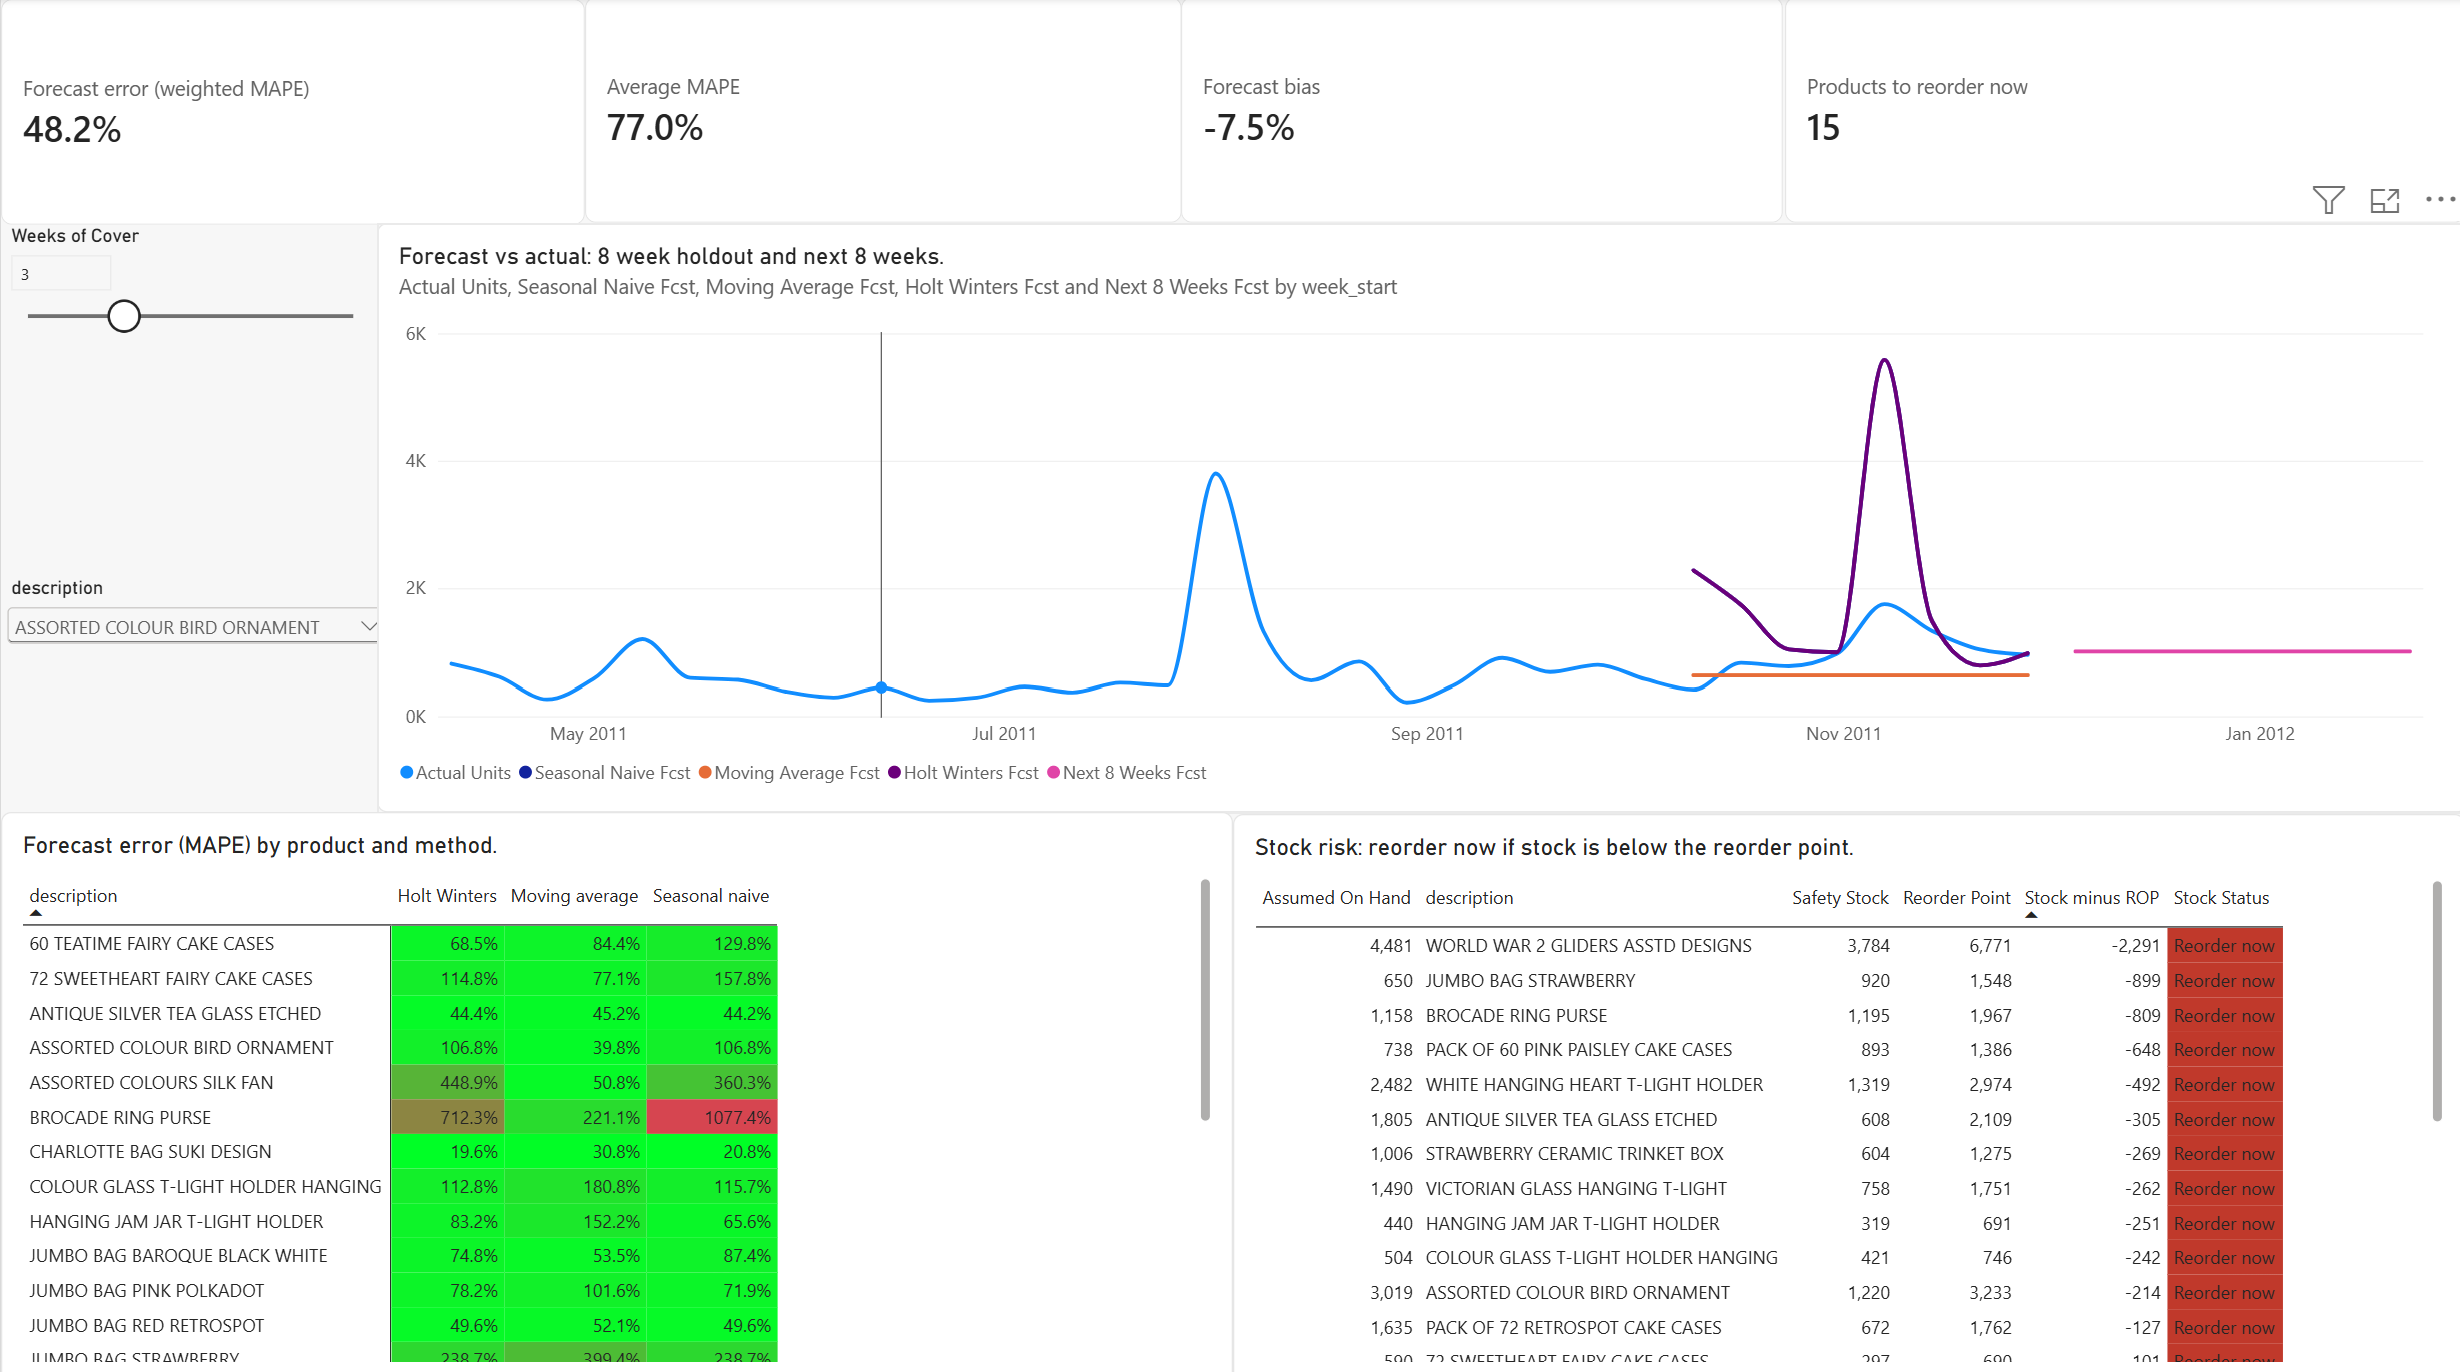

The dashboard page shown, as its layout file describes it:
{"tool":"powerbi","page":{"name":"Page 1","canvas":[1920,1080],"ordinal":0},"visuals":[{"type":"slicer","fields":{"Values":["inventory_plan.description"]},"box":[0,451.9,305.5,176.1],"z":0},{"type":"slicer","fields":{"Values":["Weeks of Cover.Weeks of Cover"]},"box":[0,177.7,293,176.1],"z":1000},{"type":"cardVisual","fields":{"Data":["accuracy_by_product.All WMAPE %"]},"box":[0,1.6,455.1,176.1],"z":2000},{"type":"cardVisual","fields":{"Data":["accuracy_by_product.All MAPE %"]},"box":[454.7,0,465.5,176.8],"z":3000},{"type":"cardVisual","fields":{"Data":["accuracy_by_product.All Bias %"]},"box":[919.7,0,469.9,176.8],"z":4000},{"type":"cardVisual","fields":{"Data":["inventory_plan.All Products At Risk"]},"box":[1389.7,0,530.3,176.8],"z":5000},{"type":"lineChart","title":"Forecast vs actual: 8 week holdout and next 8 weeks.","fields":{"Category":["forecast_chart.week_start"],"Y":["forecast_chart.Actual Units","forecast_chart.Seasonal Naive Fcst","forecast_chart.Moving Average Fcst","forecast_chart.Holt Winters Fcst","forecast_chart.Next 8 Weeks Fcst"]},"box":[293.1,176.8,1629.1,458.7],"z":6000},{"type":"pivotTable","title":"Forecast error (MAPE) by product and method.","fields":{"Columns":["accuracy_by_product.method"],"Rows":["inventory_plan.description"],"Values":["accuracy_by_product.MAPE %"]},"box":[0,634.3,960,445.7],"z":7000},{"type":"tableEx","title":"Stock risk: reorder now if stock is below the reorder point.","fields":{"Values":["inventory_plan.Assumed On Hand","inventory_plan.description","inventory_plan.Safety Stock","inventory_plan.Reorder Point","inventory_plan.Stock minus ROP","inventory_plan.Stock Status"]},"box":[960,636,960,444],"z":8000}]}

Visuals, with their boxes in screenshot pixels (x1, y1, x2, y2), scaled from the page's 1920x1080 canvas onto the 2460x1372 screenshot:
slicer - inventory_plan.description: box=[0, 574, 391, 798]
slicer - Weeks of Cover.Weeks of Cover: box=[0, 226, 375, 449]
cardVisual - accuracy_by_product.All WMAPE %: box=[0, 2, 583, 226]
cardVisual - accuracy_by_product.All MAPE %: box=[583, 0, 1179, 225]
cardVisual - accuracy_by_product.All Bias %: box=[1178, 0, 1780, 225]
cardVisual - inventory_plan.All Products At Risk: box=[1781, 0, 2459, 225]
"Forecast vs actual: 8 week holdout and next 8 weeks." lineChart: box=[376, 225, 2459, 807]
"Forecast error (MAPE) by product and method." pivotTable: box=[0, 806, 1230, 1371]
"Stock risk: reorder now if stock is below the reorder point." tableEx: box=[1230, 808, 2459, 1371]
